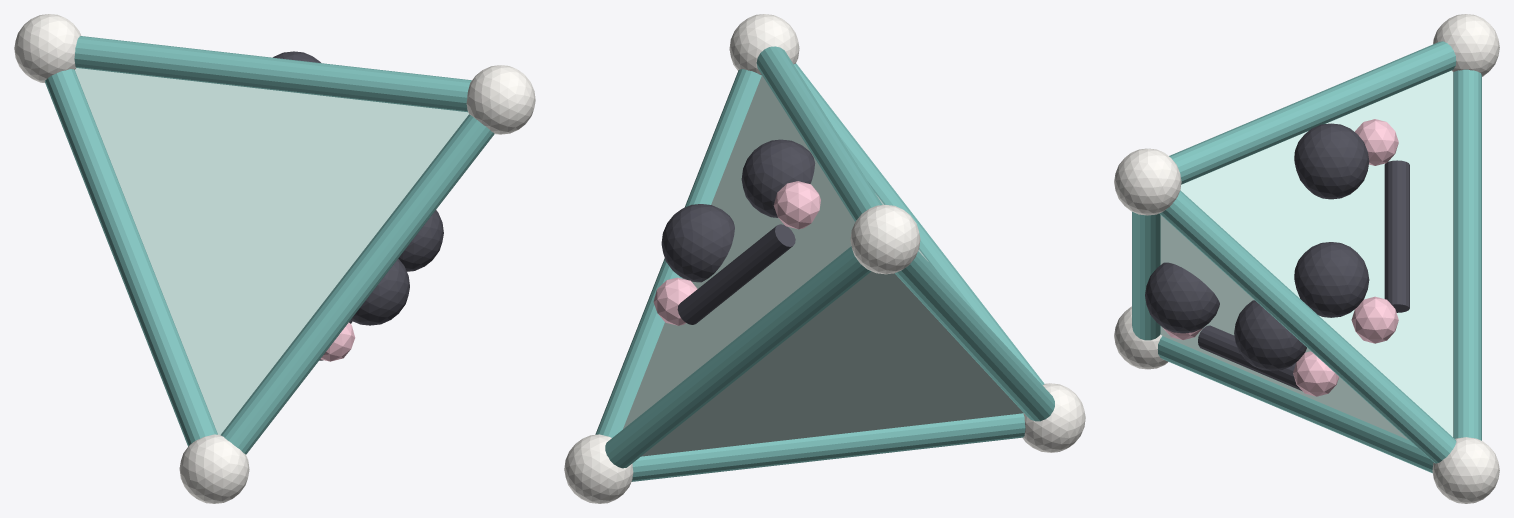
The model's file is 4tetrahedron_cute_facets_edges_vertices.glb.
3 renders of one model, left to right at view 1: azimuth 30°, elevation 25°; view 2: azimuth 150°, elevation 25°; view 3: azimuth 270°, elevation 25°, orthographic. The views are drawn at different scales.
Visible parts, largest first — view 1: TetraBody, TetraEdges, TetraVertices, CuteFaceFeatures, CuteCheeks; view 2: TetraBody, TetraEdges, TetraVertices, CuteFaceFeatures, CuteCheeks; view 3: TetraBody, TetraEdges, CuteFaceFeatures, TetraVertices, CuteCheeks.
Boxes of the visible parts, <box> form: TetraBody: <box>75,68,468,434</box>; TetraEdges: <box>45,36,494,454</box>; TetraVertices: <box>14,14,535,503</box>; CuteFaceFeatures: <box>273,51,443,360</box>; CuteCheeks: <box>320,322,355,361</box>; TetraBody: <box>623,75,1023,456</box>; TetraEdges: <box>595,46,1054,481</box>; TetraVertices: <box>564,14,1085,503</box>; CuteFaceFeatures: <box>661,139,815,324</box>; CuteCheeks: <box>653,181,820,325</box>; TetraBody: <box>1160,70,1453,439</box>; TetraEdges: <box>1132,41,1481,473</box>; CuteFaceFeatures: <box>1145,123,1409,391</box>; TetraVertices: <box>1114,14,1499,503</box>; CuteCheeks: <box>1163,119,1398,396</box>.
Size of the model in its own units: 2.42 by 2.42 by 2.42.
